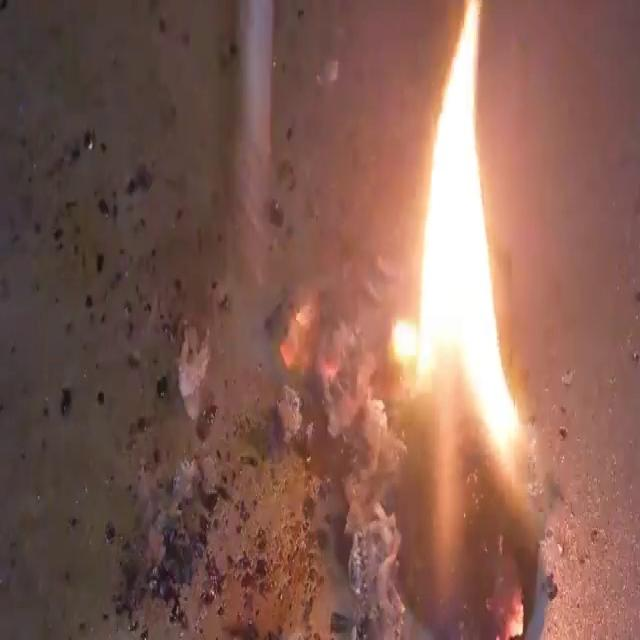Fire: (4, 2, 635, 636)
